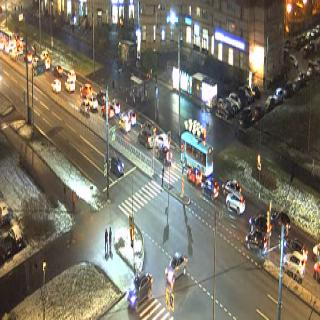large-vehicle: (180, 130, 213, 182)
small-vehicle: (126, 272, 153, 310), (165, 252, 187, 284), (283, 251, 304, 283), (285, 237, 307, 265), (270, 209, 290, 238), (247, 229, 267, 257), (250, 213, 270, 239), (227, 191, 246, 218), (223, 179, 242, 202), (202, 178, 219, 202), (9, 224, 23, 250), (0, 233, 12, 263), (137, 127, 152, 150), (187, 166, 202, 188), (157, 145, 171, 167), (111, 156, 124, 177), (101, 100, 113, 121), (119, 112, 131, 133), (0, 200, 9, 227), (218, 99, 229, 120), (64, 76, 76, 95), (87, 94, 98, 114), (125, 108, 136, 128), (156, 132, 168, 150), (143, 118, 153, 138), (240, 108, 250, 128), (79, 99, 90, 117), (230, 94, 242, 110), (110, 97, 120, 116), (274, 85, 282, 108), (240, 86, 250, 104), (265, 93, 275, 111), (82, 82, 92, 99), (97, 88, 107, 105), (305, 63, 314, 81), (256, 102, 264, 121), (284, 80, 292, 99), (52, 78, 61, 93), (291, 79, 300, 94), (298, 71, 306, 87), (53, 64, 62, 78), (23, 50, 32, 64), (68, 69, 76, 83), (43, 56, 50, 71)
